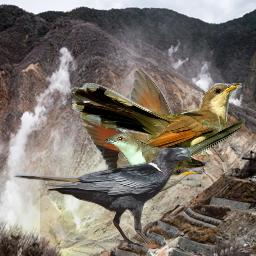Crow: (40, 145, 192, 248)
Cuckoo: (13, 68, 199, 198), (71, 83, 242, 159), (102, 119, 245, 185)
